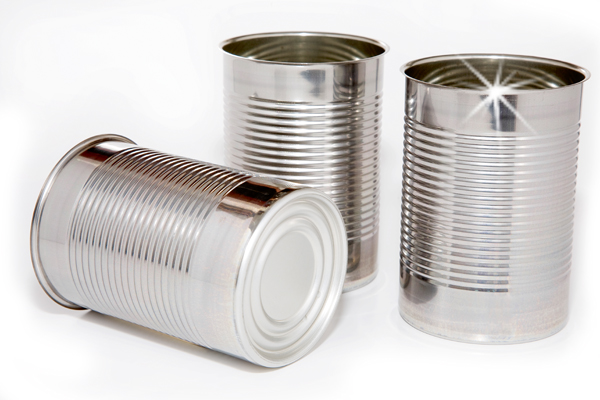can: (21, 25, 393, 376), (396, 51, 577, 342)
